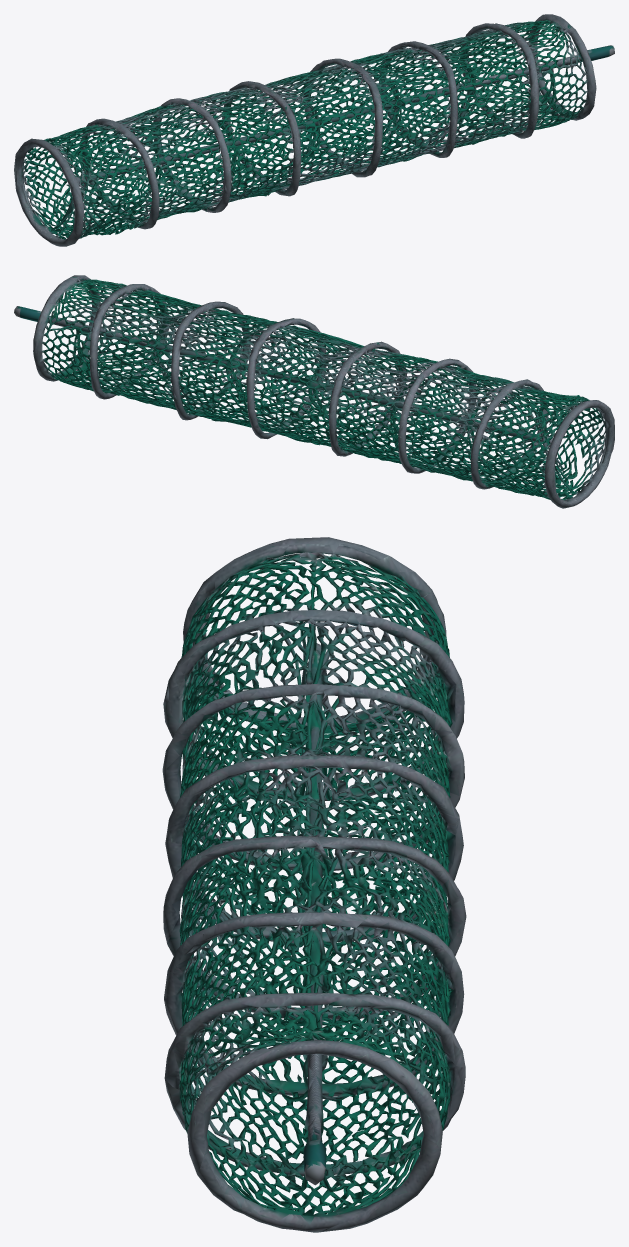
The model's file is keepnet.glb.
3 views of the same model, one above another, from view 1: azimuth 30°, elevation 25°; view 2: azimuth 150°, elevation 25°; view 3: azimuth 270°, elevation 25° (orthographic). The views are drawn at different scales.
Visible parts, largest first — view 1: Mesh_0; view 2: Mesh_0; view 3: Mesh_0.
Boxes of the visible parts, bbox=[...] form: Mesh_0: bbox=[14, 14, 614, 246]; Mesh_0: bbox=[14, 275, 614, 508]; Mesh_0: bbox=[162, 537, 466, 1232].
Bounding box in the file's own units: 1.9 × 0.3157 × 0.441.
1 material, 1 textured.
